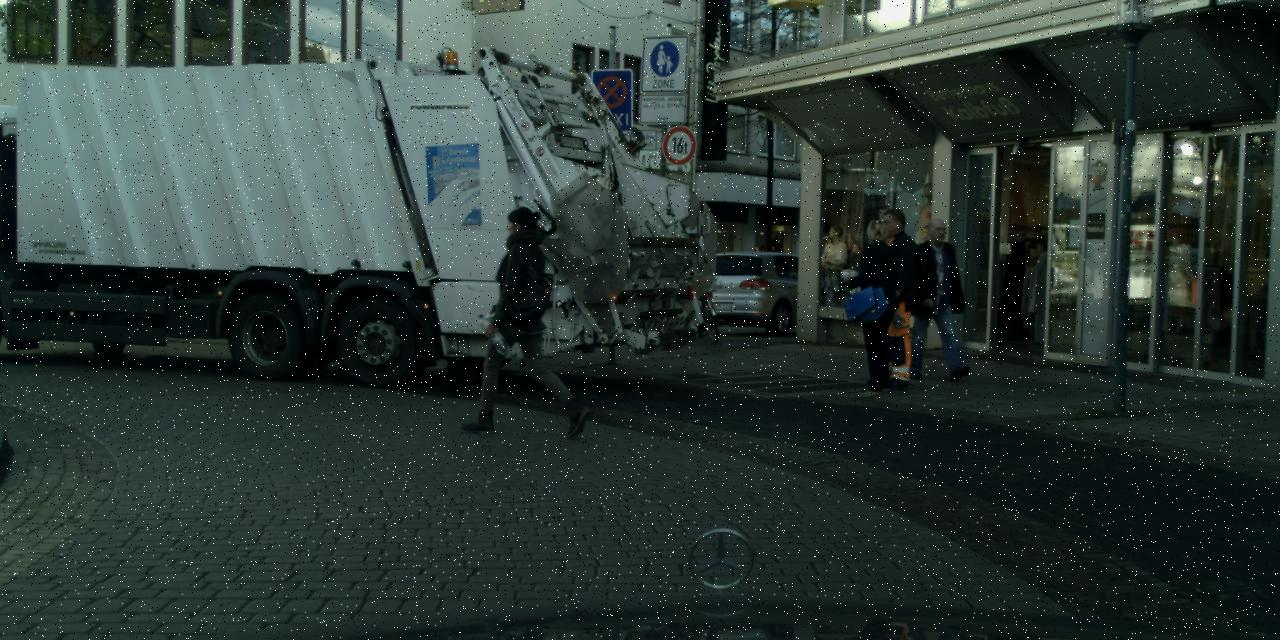ped: (481, 206, 572, 428), (856, 208, 930, 388), (838, 218, 911, 395), (903, 217, 968, 377)
